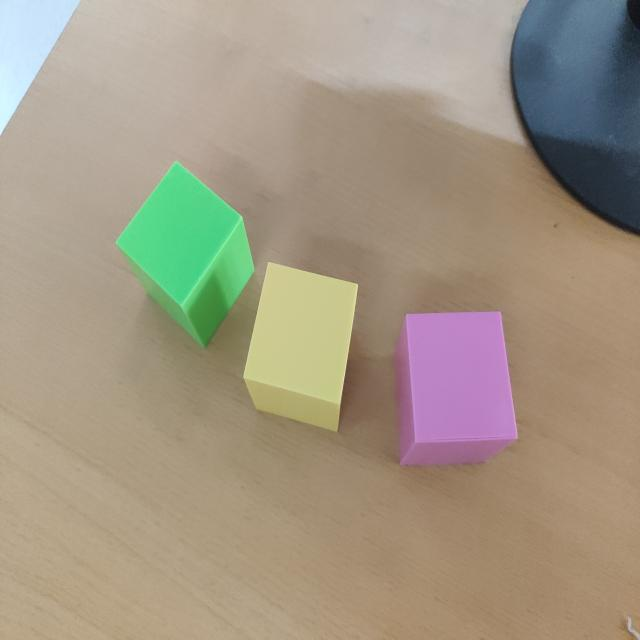green: (113, 163, 254, 349)
pink: (394, 312, 518, 469)
yellow: (243, 264, 359, 434)
